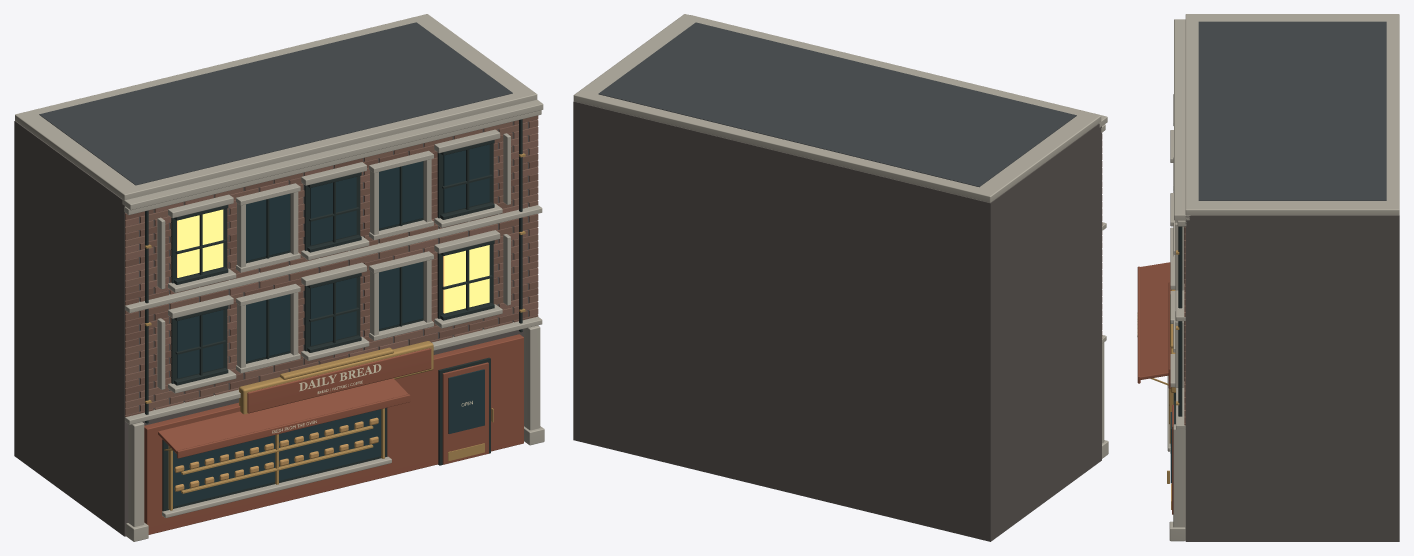
The model's file is district-daily-bread.glb.
The picture shows the model from 3 angles, left to right: view 1: azimuth 30°, elevation 25°; view 2: azimuth 150°, elevation 25°; view 3: azimuth 270°, elevation 25°; orthographic projection. The views are drawn at different scales.
Visible parts, largest first — view 1: Existing envelope, District Warm limestone, District Roof membrane, District Opaque dark glazing, District Coffee enamel, District Charcoal painted metal, Roof cap, District Brick tone 3, District Brick tone 4, District Brick tone 0, District Brick tone 1, District Warm occupied window (+6 smaller); view 2: Existing envelope, District Roof membrane, Roof cap, District Warm limestone; view 3: Existing envelope, District Roof membrane, Roof cap, District Warm limestone, District Coffee enamel, District Charcoal painted metal, District Aged brass.
Part boxes in pixels (bbox=[...]): Existing envelope: bbox=[14, 119, 537, 536]; District Warm limestone: bbox=[122, 99, 544, 541]; District Roof membrane: bbox=[39, 22, 512, 185]; District Opaque dark glazing: bbox=[173, 144, 489, 506]; District Coffee enamel: bbox=[144, 334, 523, 534]; District Charcoal painted metal: bbox=[145, 119, 522, 511]; Roof cap: bbox=[15, 14, 537, 200]; District Brick tone 3: bbox=[125, 121, 538, 411]; District Brick tone 4: bbox=[125, 126, 538, 409]; District Brick tone 0: bbox=[125, 143, 538, 417]; District Brick tone 1: bbox=[125, 115, 538, 401]; District Warm occupied window: bbox=[177, 209, 489, 313]; Existing envelope: bbox=[573, 101, 1101, 541]; District Roof membrane: bbox=[598, 22, 1076, 187]; Roof cap: bbox=[573, 14, 1101, 202]; District Warm limestone: bbox=[690, 15, 1108, 458]; Existing envelope: bbox=[1185, 215, 1399, 541]; District Roof membrane: bbox=[1198, 21, 1386, 200]; Roof cap: bbox=[1185, 14, 1399, 215]; District Warm limestone: bbox=[1167, 19, 1190, 541]; District Coffee enamel: bbox=[1137, 262, 1170, 383]; District Charcoal painted metal: bbox=[1174, 226, 1184, 424]; District Aged brass: bbox=[1150, 250, 1179, 509].
Bounding box in the file's own units: 11.7 × 9.26 × 6.62.
